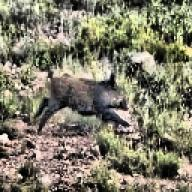boar: (33, 69, 129, 132)
